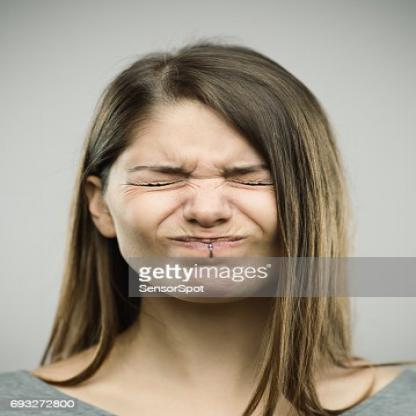pain: (119, 156, 304, 196)
